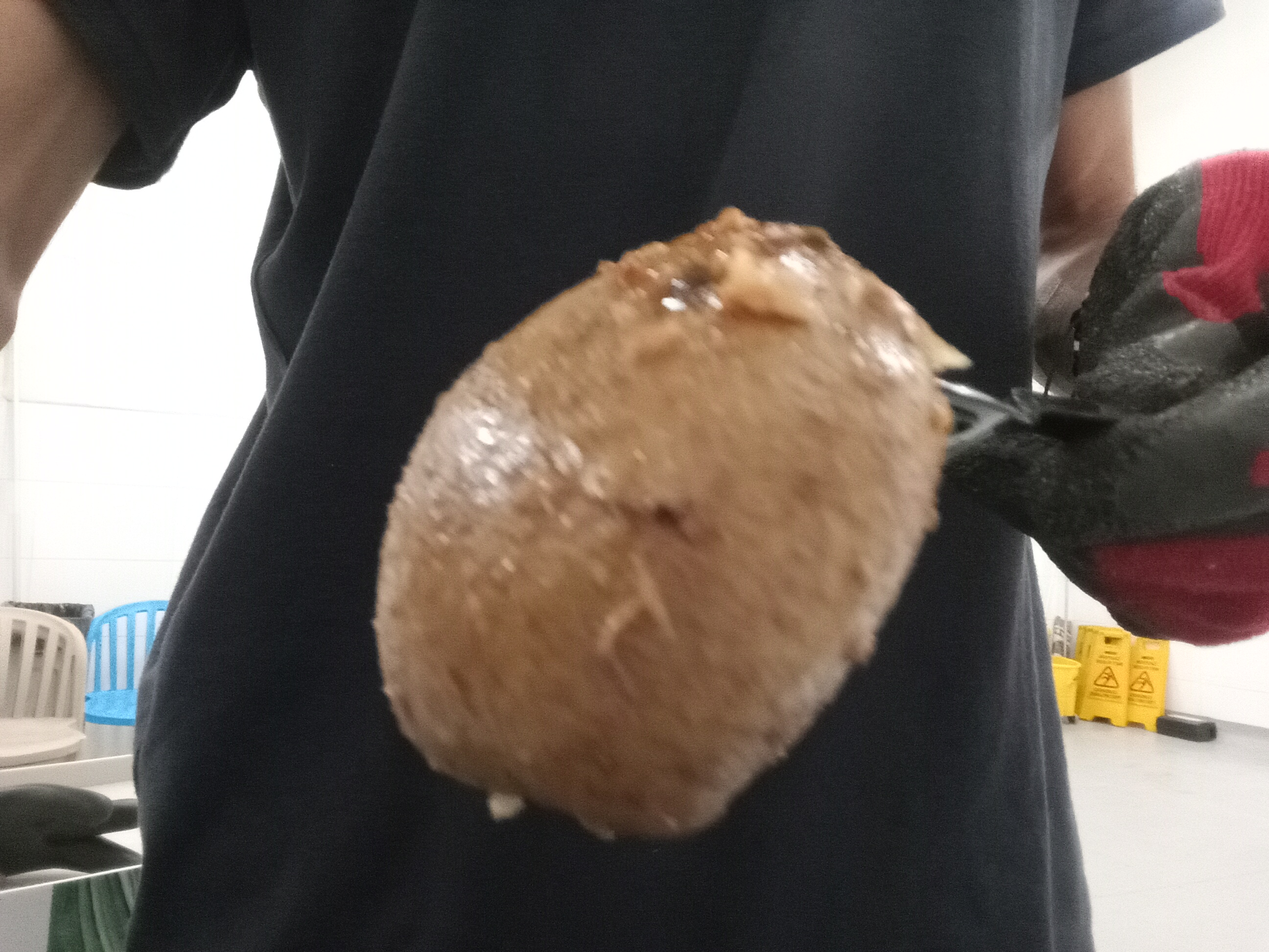Organico: (370, 210, 950, 843)
